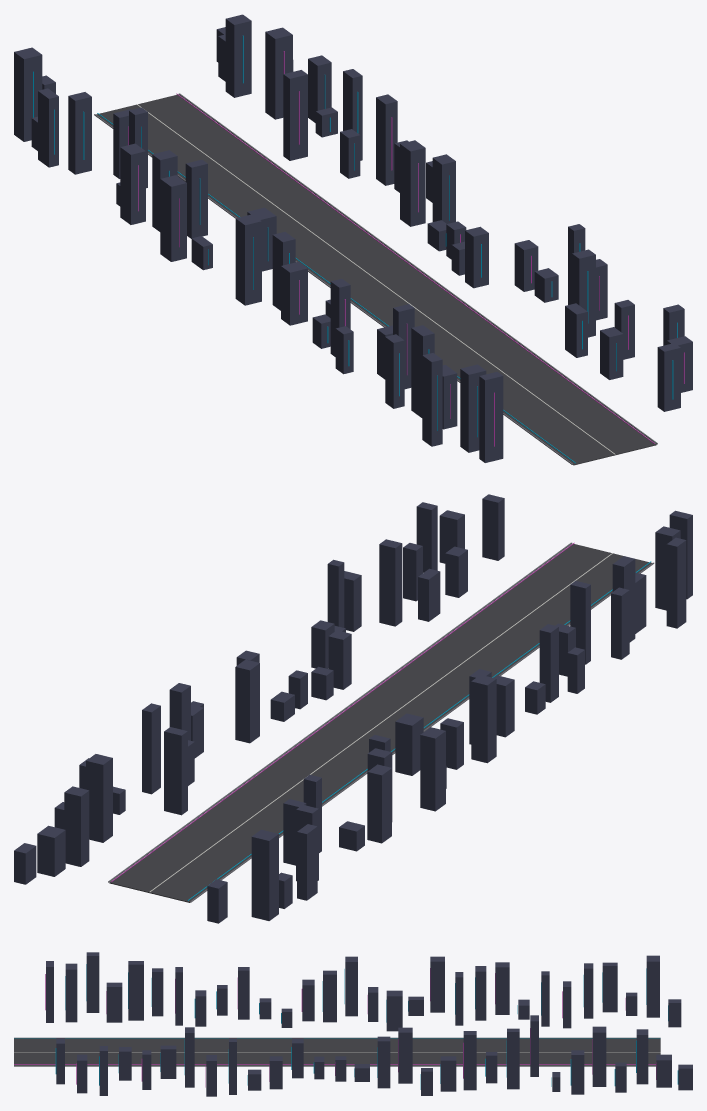
Rendered from city_neon_track.glb.
3 views of the same model, one above another, from view 1: azimuth 30°, elevation 25°; view 2: azimuth 150°, elevation 25°; view 3: azimuth 270°, elevation 25° (orthographic). The views are drawn at different scales.
Parts seen in each view (by area): view 1: part_0, part_62, part_78, part_96, part_118, part_6, part_116, part_72, part_108, part_90, part_106, part_14 (+35 smaller); view 2: part_0, part_118, part_62, part_108, part_78, part_96, part_32, part_72, part_116, part_90, part_14, part_92 (+34 smaller); view 3: part_0, part_2, part_22, part_108, part_118, part_72, part_78, part_14, part_84, part_110, part_92, part_90 (+52 smaller).
Part boxes in pixels (box(x1,y1,x2,y2)): part_0: box(96, 94, 656, 465); part_62: box(235, 214, 261, 305); part_78: box(160, 175, 186, 261); part_96: box(283, 70, 307, 160); part_118: box(14, 47, 42, 141); part_6: box(479, 371, 503, 462); part_116: box(225, 14, 251, 97); part_72: box(400, 140, 425, 226); part_108: box(265, 27, 292, 119); part_90: box(120, 143, 145, 224); part_106: box(68, 92, 91, 174); part_14: box(422, 353, 442, 446); part_0: box(109, 544, 651, 902); part_118: box(251, 829, 278, 920); part_62: box(471, 674, 496, 763); part_108: box(86, 754, 112, 842); part_78: box(420, 727, 445, 811); part_96: box(164, 727, 187, 815); part_32: box(379, 539, 402, 626); part_72: box(235, 659, 259, 743); part_116: box(64, 786, 89, 866); part_90: box(367, 764, 391, 843); part_14: box(666, 537, 686, 628); part_92: box(142, 703, 160, 794); part_0: box(14, 1038, 660, 1065); part_2: box(14, 1037, 660, 1038); part_22: box(128, 961, 143, 1020); part_108: box(592, 1026, 606, 1086); part_118: box(646, 955, 659, 1017); part_72: box(398, 1027, 412, 1083); part_78: box(430, 956, 444, 1012); part_14: box(86, 952, 99, 1012); part_84: box(463, 1031, 476, 1090); part_110: box(602, 962, 617, 1012); part_92: box(507, 1028, 519, 1089); part_90: box(495, 962, 509, 1014).
Bounding box in the file's own units: 58.82 × 17.76 × 189.
